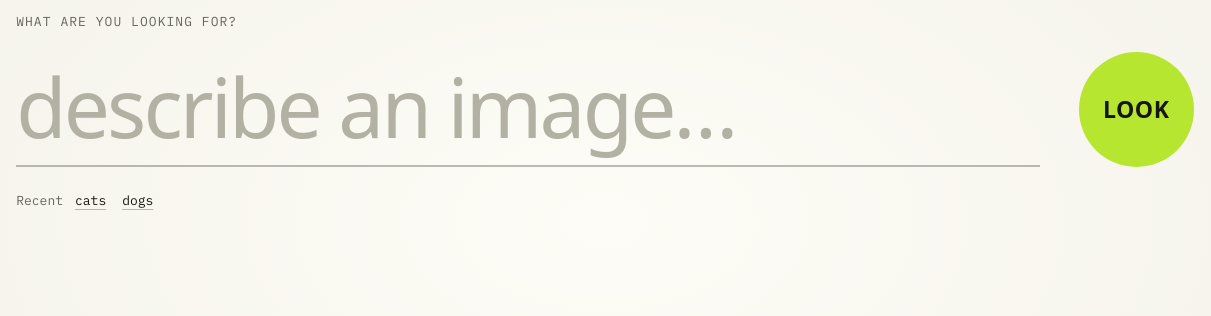
SearchForm › reruns a recent query
Click the button "dogs".
click(138, 200)  # box top-left (118, 187), bottom-right (157, 214)
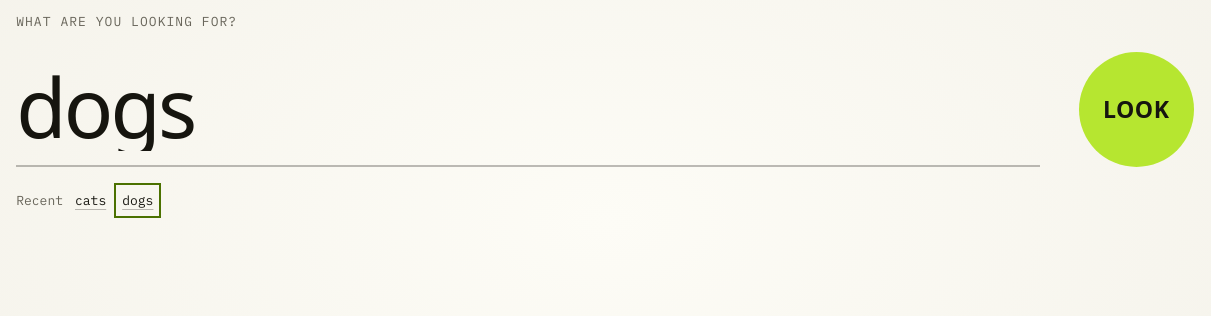
Check: the field labelled "What are you looking for?" holds "dogs", box top-left (16, 61), bottom-right (1040, 167)
